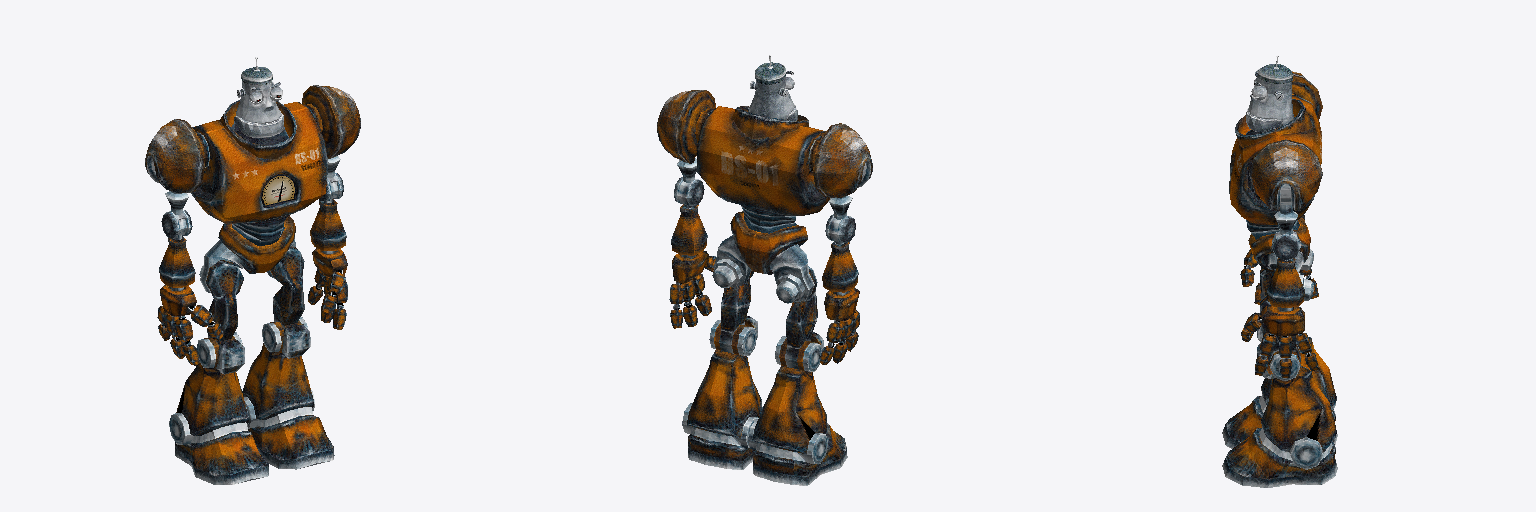
The picture shows the model from 3 angles: view 1: azimuth 30°, elevation 25°; view 2: azimuth 150°, elevation 25°; view 3: azimuth 270°, elevation 25°; orthographic projection.
Visible parts, largest first — view 1: Object02, Object04; view 2: Object02, Object04; view 3: Object02, Object04.
Part boxes in pixels (x1,y1,x2,y2): Object02: (145,85,360,484); Object04: (234,57,283,137); Object02: (657,90,872,485); Object04: (748,55,797,120); Object02: (1222,71,1337,487); Object04: (1246,55,1293,132).
Size of the model in its own units: 495 by 926 by 242.
Materials: 2 (2 with a texture image).